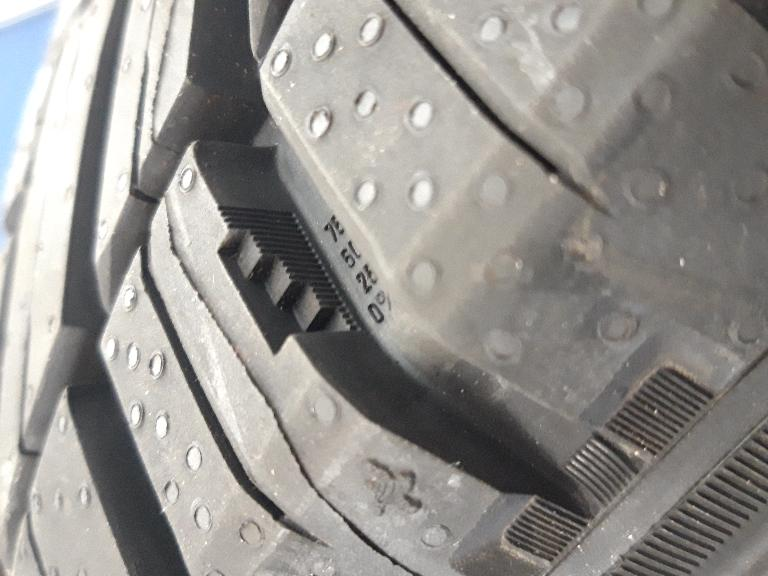temoin:100: (195, 200, 371, 365)
